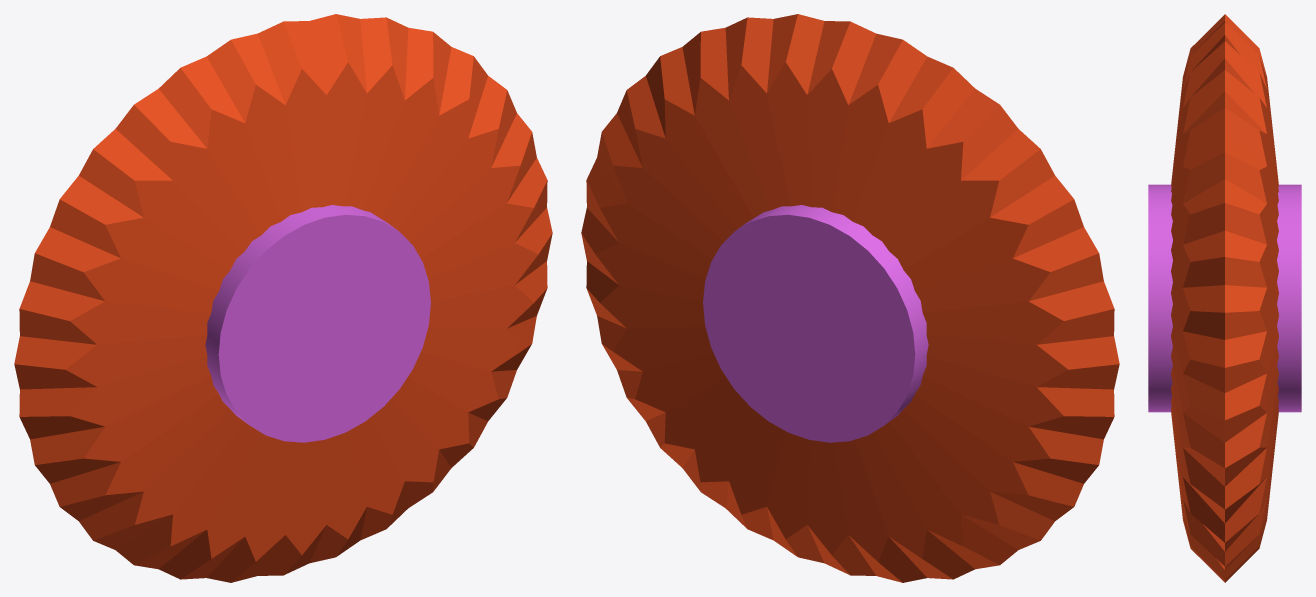
The model's file is engel1_5.fbx.
3 views of the same model, side by side, from view 1: azimuth 30°, elevation 25°; view 2: azimuth 150°, elevation 25°; view 3: azimuth 270°, elevation 25° (orthographic). The views are drawn at different scales.
Visible parts, largest first — view 1: Engel1.1, Engel1; view 2: Engel1.1, Engel1; view 3: Engel1.1, Engel1.
Part boxes in pixels (x1,y1,x2,y2): Engel1.1: (14, 14, 552, 582); Engel1: (205, 205, 430, 442); Engel1.1: (581, 14, 1119, 582); Engel1: (703, 205, 928, 442); Engel1.1: (1171, 14, 1278, 582); Engel1: (1148, 184, 1301, 412).
Size of the model in its own units: 27.62 by 27.16 by 7.35.
